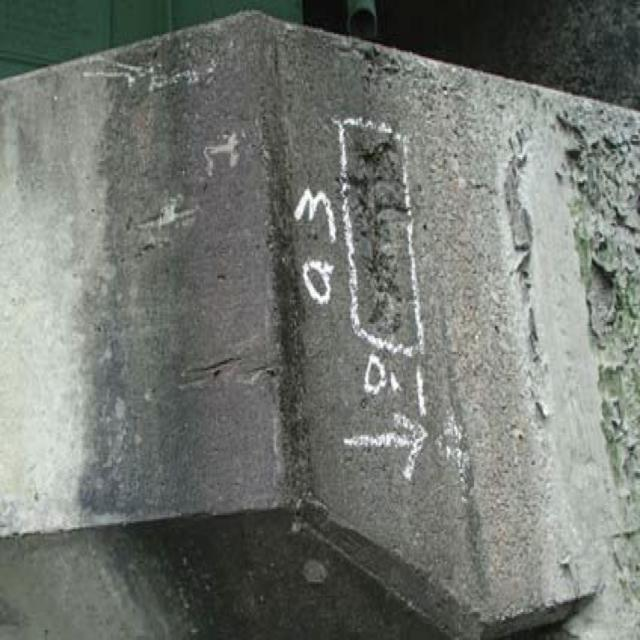spalling: (344, 117, 420, 354)
